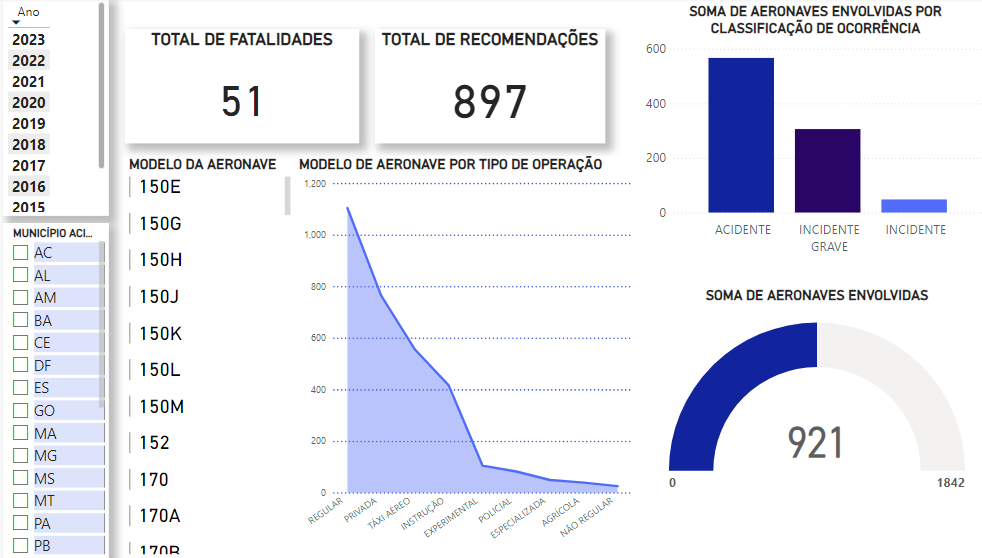

Layout of this report page (visuals, bound fields, positions):
{"tool":"powerbi","page":{"name":"Página 1","canvas":[1280,720],"ordinal":0},"visuals":[{"type":"tableEx","fields":{"Values":["OCORRENCIA.ocorrencia_dia.Variation.Hierarquia de datas.Ano"]},"box":[12.6,0,136.1,279.9],"z":0},{"type":"slicer","fields":{"Values":["OCORRENCIA.ocorrencia_uf"]},"box":[12.6,289.6,136.1,430.6],"z":1000},{"type":"gauge","title":"SOMA DE AERONAVES ENVOLVIDAS","fields":{"Y":["Sum(OCORRENCIA.total_aeronaves_envolvidas)"]},"box":[863.6,371.4,390.7,291.7],"z":2000},{"type":"card","title":"TOTAL DE RECOMENDAÇÕES","fields":{"Values":["CountNonNull(OCORRENCIA.total_recomendacoes)"]},"box":[490.9,39.8,295.6,146.5],"z":3000},{"type":"columnChart","title":"SOMA DE AERONAVES ENVOLVIDAS POR CLASSIFICAÇÃO DE OCORRÊNCIA","fields":{"Category":["OCORRENCIA.ocorrencia_classificacao"],"Y":["Sum(OCORRENCIA.total_aeronaves_envolvidas)"]},"box":[834.1,6.4,445.9,330.3],"z":5000},{"type":"areaChart","title":"MODELO DE AERONAVE POR TIPO DE OPERAÇÃO","fields":{"Category":["AERONAVE.aeronave_tipo_operacao"],"Y":["CountNonNull(AERONAVE.aeronave_modelo)"]},"box":[388.1,203.1,436.9,516.6],"z":6000},{"type":"multiRowCard","title":"MODELO DA AERONAVE","fields":{"Values":["AERONAVE.aeronave_modelo"]},"box":[169.6,203.1,218.5,516.6],"z":6001},{"type":"card","title":"TOTAL DE FATALIDADES","fields":{"Values":["Sum(AERONAVE.aeronave_fatalidades_total)"]},"box":[169.6,39.8,300.7,146.5],"z":6002}]}

Visuals, with their boxes in screenshot pixels (x1, y1, x2, y2), scaled from the page's 1280x720 canvas onto the 982x558 screenshot:
tableEx - OCORRENCIA.ocorrencia_dia.Variation.Hierarquia de datas.Ano: <bbox>10, 0, 114, 217</bbox>
slicer - OCORRENCIA.ocorrencia_uf: <bbox>10, 224, 114, 557</bbox>
"SOMA DE AERONAVES ENVOLVIDAS" gauge: <bbox>663, 288, 962, 514</bbox>
"TOTAL DE RECOMENDAÇÕES" card: <bbox>377, 31, 603, 144</bbox>
"SOMA DE AERONAVES ENVOLVIDAS POR CLASSIFICAÇÃO DE OCORRÊNCIA" columnChart: <bbox>640, 5, 981, 261</bbox>
"MODELO DE AERONAVE POR TIPO DE OPERAÇÃO" areaChart: <bbox>298, 157, 633, 557</bbox>
"MODELO DA AERONAVE" multiRowCard: <bbox>130, 157, 298, 557</bbox>
"TOTAL DE FATALIDADES" card: <bbox>130, 31, 361, 144</bbox>
